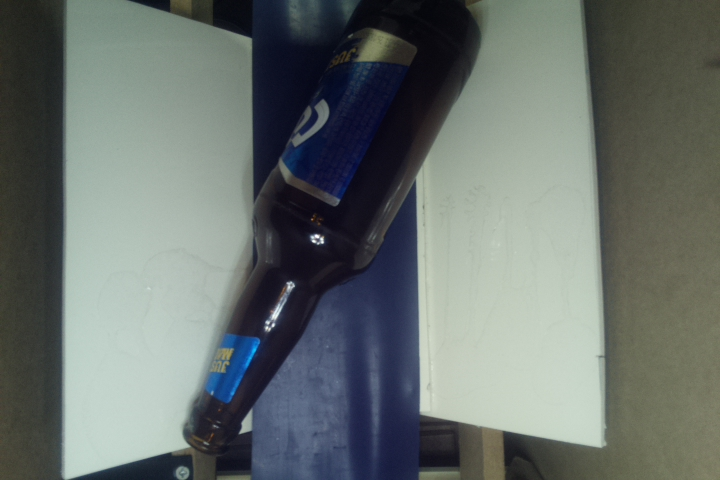makju: (180, 1, 489, 457)
